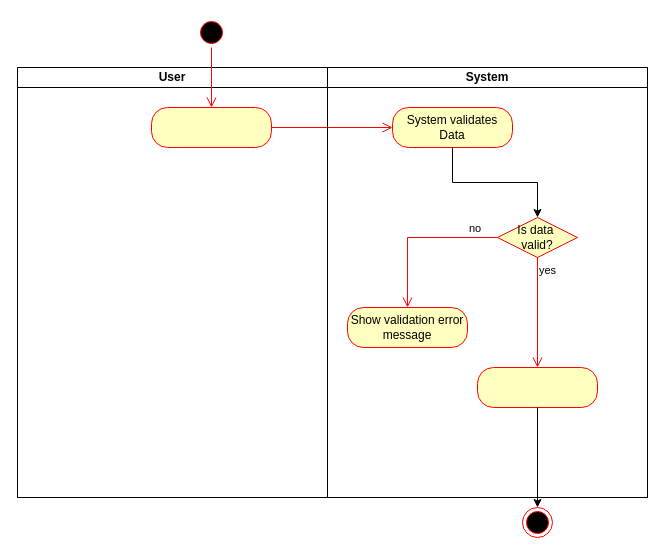
Image size: 665x555. Some labels were removed from this diagram. Each missing label, with the box of its shape:
Redirect to feed: (476, 366, 598, 408)
User enters registration data: (150, 106, 272, 148)
